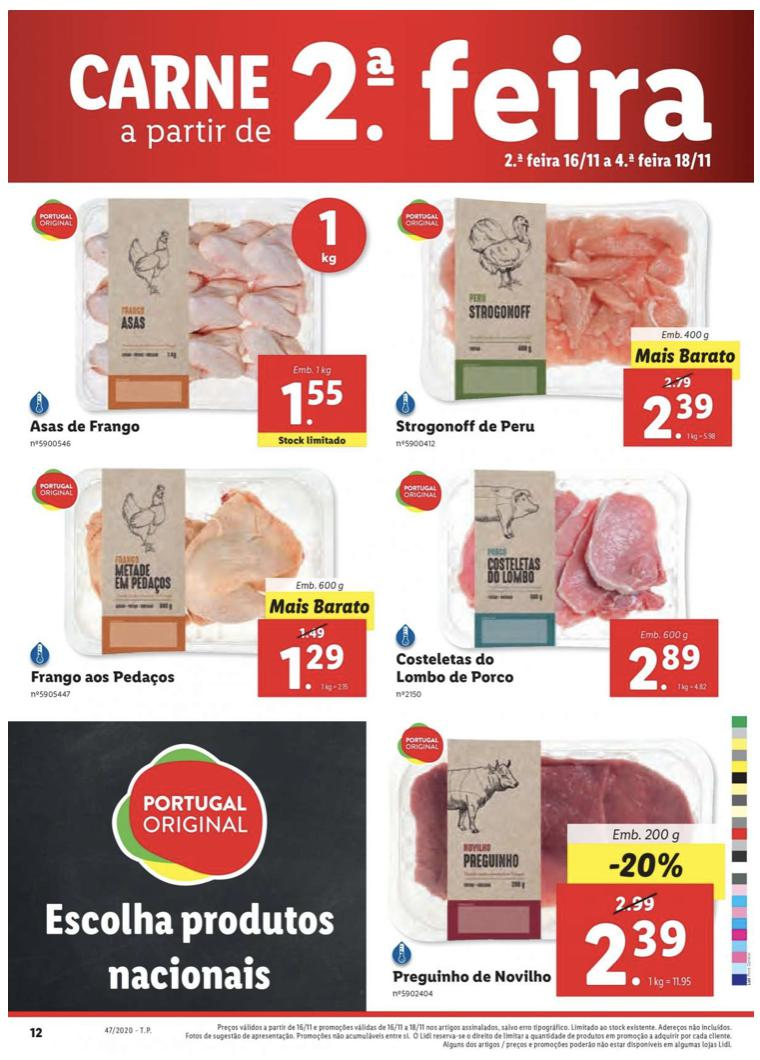name: (390, 650, 520, 688), (390, 967, 557, 988), (26, 667, 181, 689), (394, 418, 540, 438), (30, 414, 143, 438)
price: (577, 915, 694, 996), (276, 376, 352, 431), (642, 393, 720, 444), (278, 640, 348, 693), (628, 644, 701, 692)
product: (9, 190, 380, 457), (374, 723, 734, 996), (389, 197, 739, 456), (388, 456, 736, 713), (18, 464, 378, 707)
promotion: (605, 847, 685, 885)
